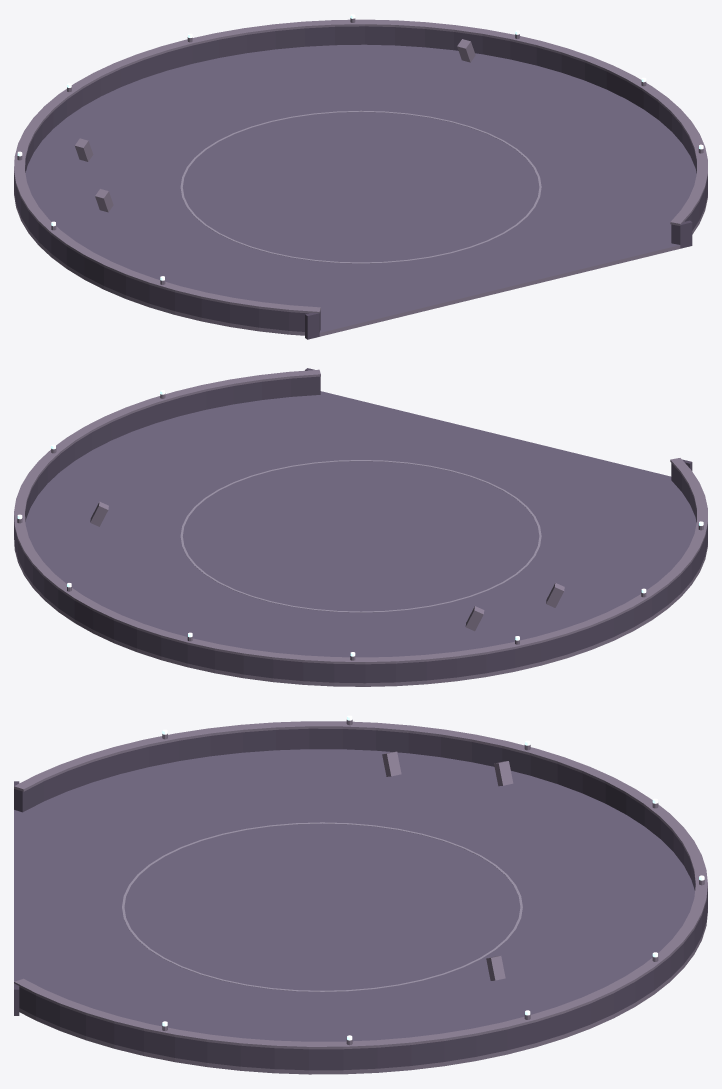
Rendered from IR_Arena.glb.
3 renders of one model, top to bottom at view 1: azimuth 30°, elevation 25°; view 2: azimuth 150°, elevation 25°; view 3: azimuth 270°, elevation 25°, orthographic. The views are drawn at different scales.
Parts seen in each view (by area): view 1: IR_Arena; view 2: IR_Arena; view 3: IR_Arena.
Boxes of the visible parts, x1,y1,x2,y2 form: IR_Arena: (14, 14, 707, 339); IR_Arena: (14, 368, 707, 686); IR_Arena: (14, 715, 707, 1074).
Bounding box in the file's own units: 200 × 15.55 × 180.
2 materials, 2 textured.
